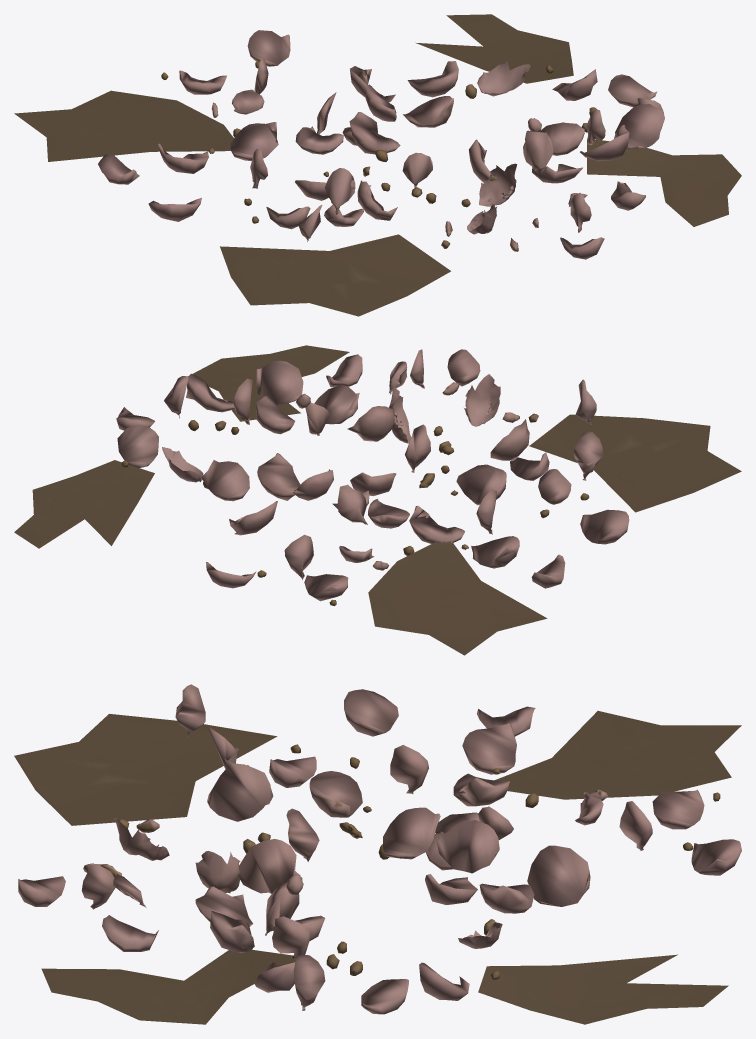
File: Flower petals.fbx
3 views of the same model, one above another, from view 1: azimuth 30°, elevation 25°; view 2: azimuth 150°, elevation 25°; view 3: azimuth 270°, elevation 25° (orthographic). The views are drawn at different scales.
Visible parts, largest first — view 1: tripo_node_36795d71-40c0-4c63-ad82-fc66875d5277; view 2: tripo_node_36795d71-40c0-4c63-ad82-fc66875d5277; view 3: tripo_node_36795d71-40c0-4c63-ad82-fc66875d5277.
Boxes of the visible parts, left/top/right/bottom form: tripo_node_36795d71-40c0-4c63-ad82-fc66875d5277: left=14, top=14, right=741, bottom=316; tripo_node_36795d71-40c0-4c63-ad82-fc66875d5277: left=14, top=345, right=741, bottom=655; tripo_node_36795d71-40c0-4c63-ad82-fc66875d5277: left=14, top=684, right=741, bottom=1024.
Bounding box in the file's own units: 99.8 × 16.6 × 98.63.
Materials: 1 (1 with a texture image).
